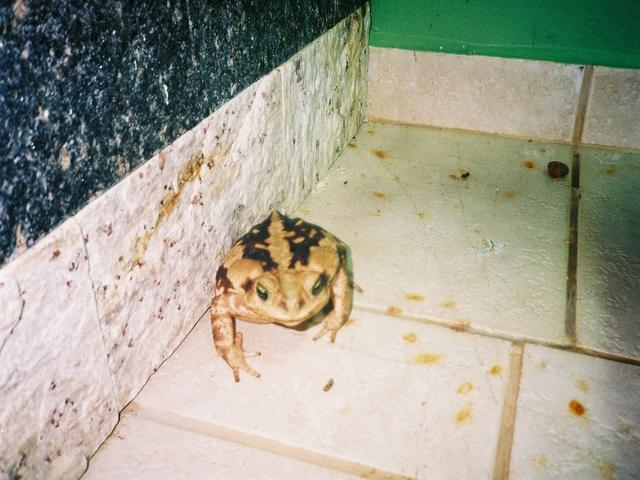frog: (189, 194, 379, 376)
